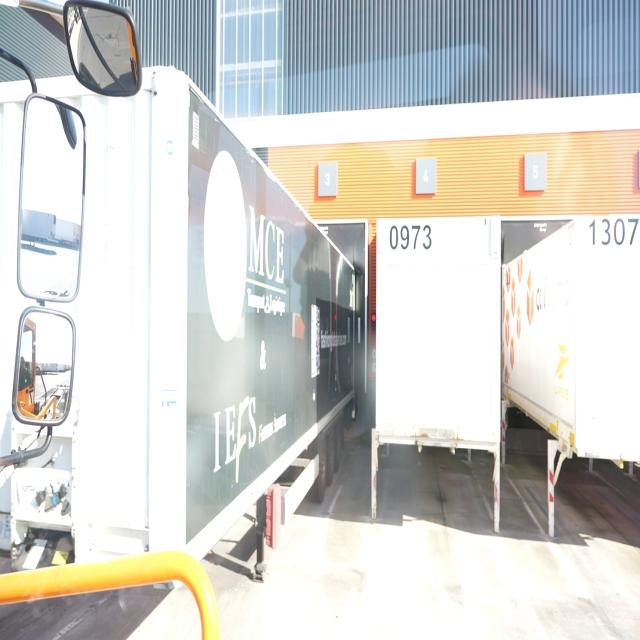Code: (586, 216, 640, 253), (386, 219, 433, 256)
